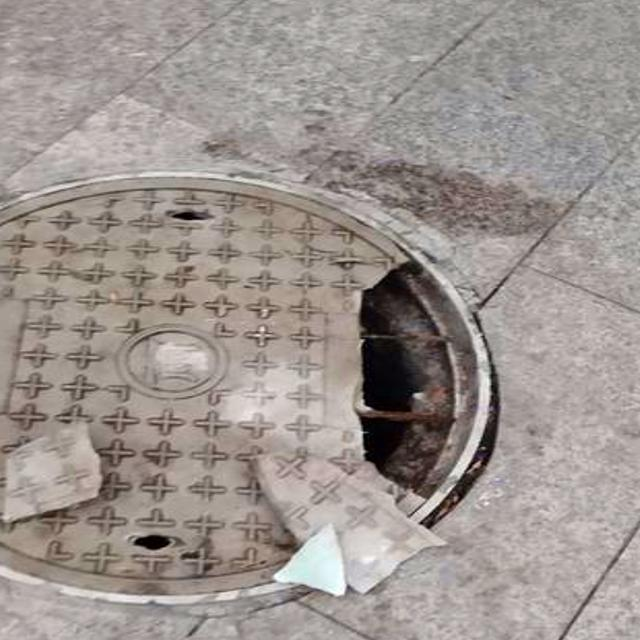broke: (0, 147, 557, 640)
